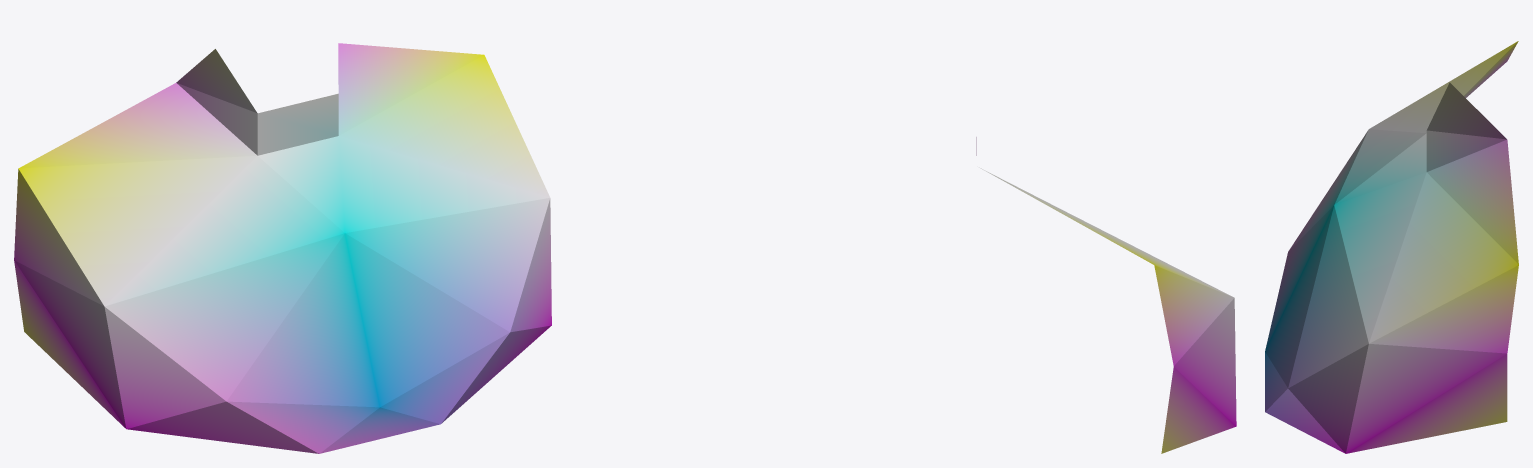
The picture shows the model from 3 angles, left to right: view 1: azimuth 30°, elevation 25°; view 2: azimuth 150°, elevation 25°; view 3: azimuth 270°, elevation 25°; orthographic projection. The views are drawn at different scales.
Parts seen in each view (by area): view 1: model_1145; view 2: model_1145; view 3: model_1145.
Boxes of the visible parts, <box> form: model_1145: <box>14,43,551,453</box>; model_1145: <box>976,137,1236,453</box>; model_1145: <box>1265,41,1518,453</box>.
Size of the model in its own units: 48 by 32 by 22.
